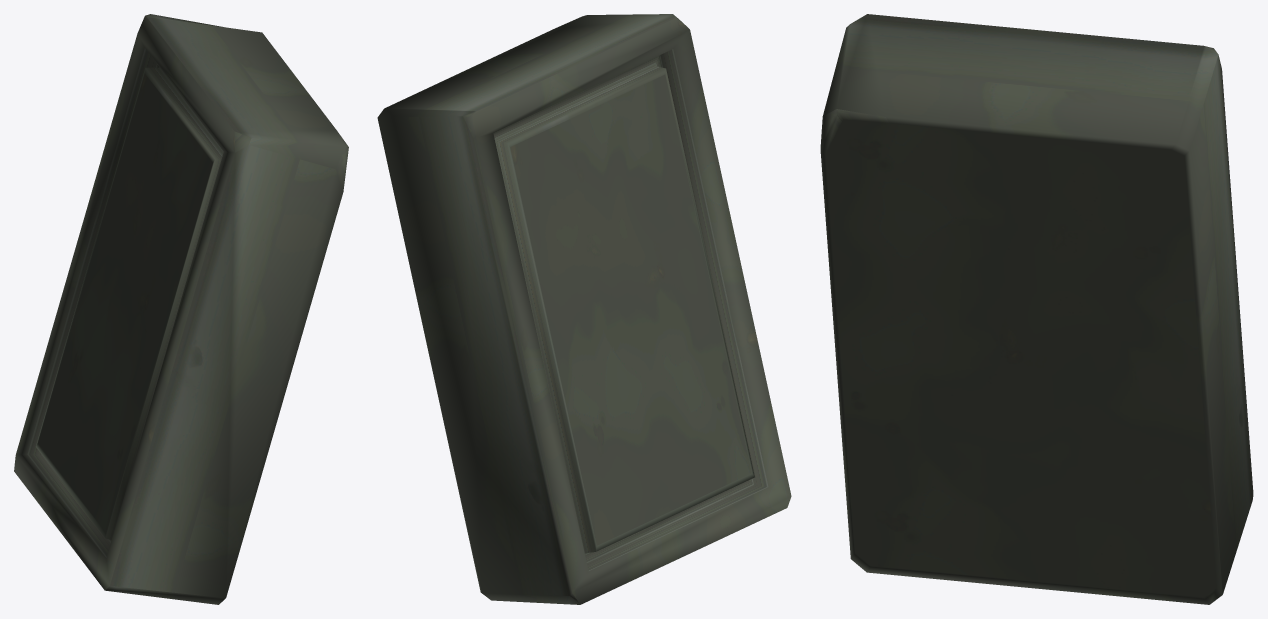
File: ArtifactFormulaHolderMesh (merge).fbx
The picture shows the model from 3 angles, left to right: view 1: azimuth 30°, elevation 25°; view 2: azimuth 150°, elevation 25°; view 3: azimuth 270°, elevation 25°; orthographic projection. The views are drawn at different scales.
Parts seen in each view (by area): view 1: ArtifactFormulaHolderMesh; view 2: ArtifactFormulaHolderMesh; view 3: ArtifactFormulaHolderMesh.
Part boxes in pixels (x1,y1,x2,y2): ArtifactFormulaHolderMesh: [14, 14, 348, 604]; ArtifactFormulaHolderMesh: [377, 14, 791, 604]; ArtifactFormulaHolderMesh: [820, 14, 1253, 604].
Size of the model in its own units: 3.23 by 5.28 by 3.64.
Materials: 1 (1 with a texture image).
